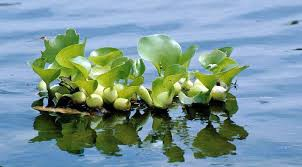water_hyacinth: (29, 26, 240, 122)
